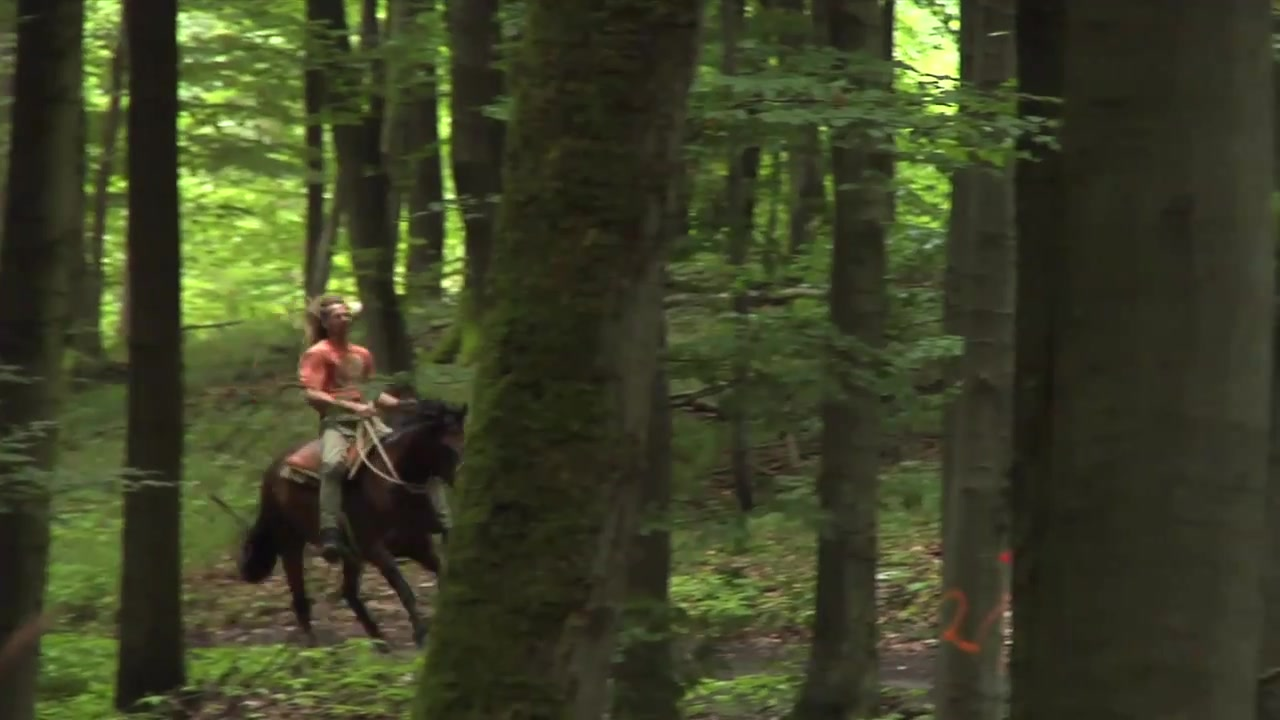horse: (239, 398, 478, 653)
